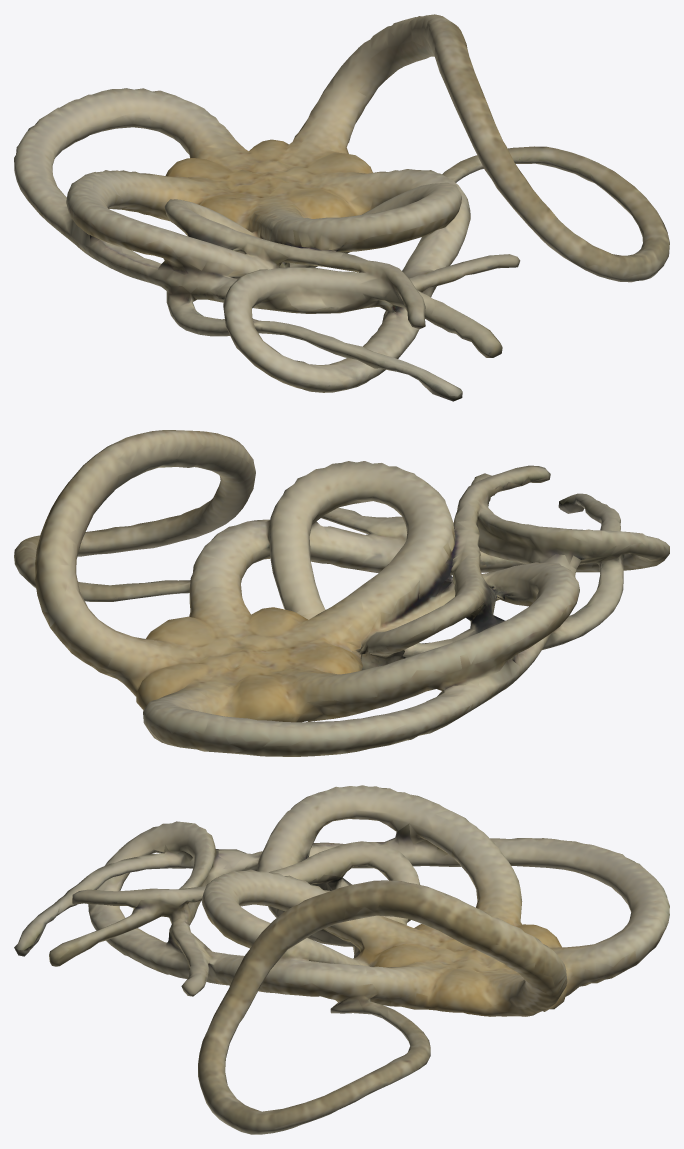
Rendered from Sharp fusion 1.001_FBX_still.fbx.
3 renders of one model, top to bottom at view 1: azimuth 30°, elevation 25°; view 2: azimuth 150°, elevation 25°; view 3: azimuth 270°, elevation 25°, orthographic. The views are drawn at different scales.
Parts seen in each view (by area): view 1: Sharp fusion 1.001_gameasset; view 2: Sharp fusion 1.001_gameasset; view 3: Sharp fusion 1.001_gameasset.
Boxes of the visible parts, left/top/right/bottom form: Sharp fusion 1.001_gameasset: left=14, top=14, right=669, bottom=401; Sharp fusion 1.001_gameasset: left=14, top=430, right=669, bottom=756; Sharp fusion 1.001_gameasset: left=14, top=785, right=669, bottom=1134.
Bounding box in the file's own units: 15.79 × 5.78 × 18.08.
Materials: 1 (1 with a texture image).
